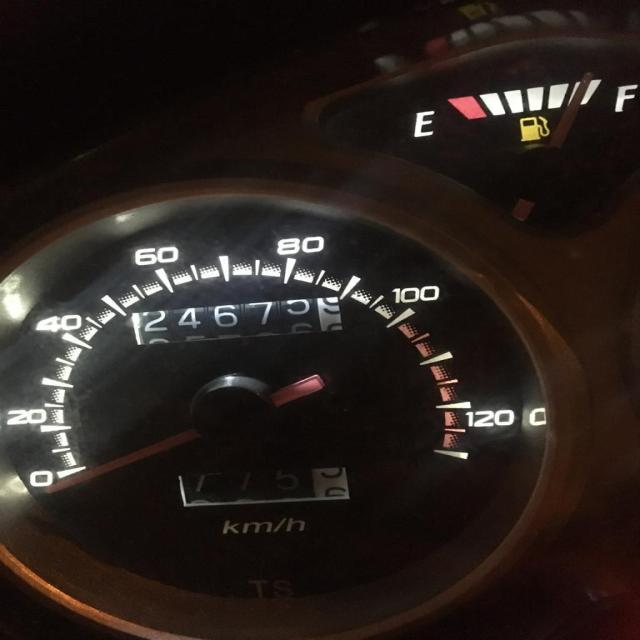odometer: (129, 296, 344, 346)
